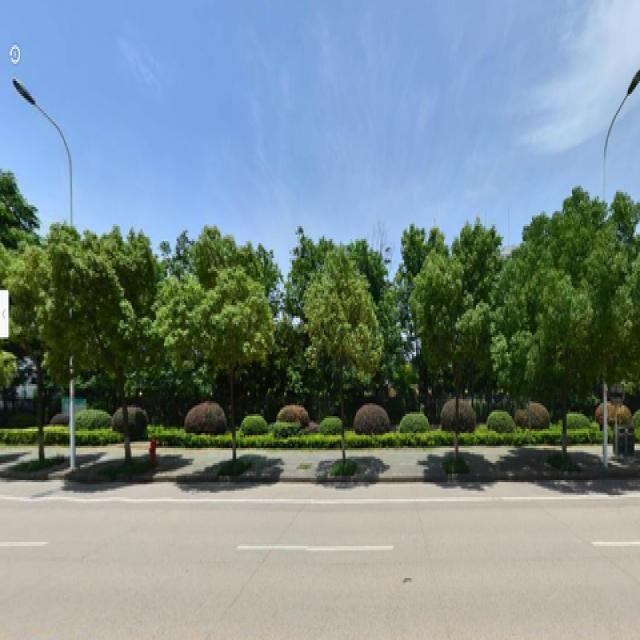cinn: (30, 248, 138, 450), (186, 271, 266, 480), (411, 252, 480, 444), (308, 271, 371, 463), (512, 273, 580, 450)
